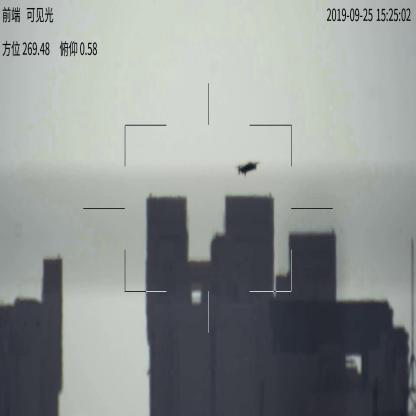uav: (235, 161, 257, 178)
